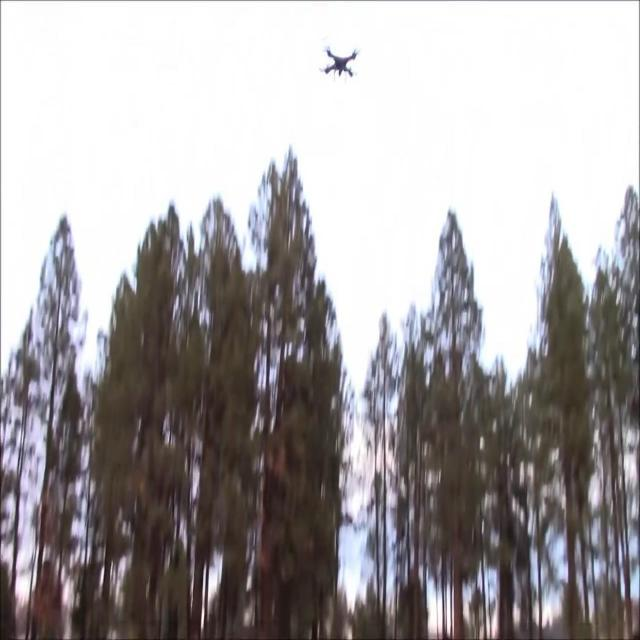UAV: (319, 45, 360, 83)
